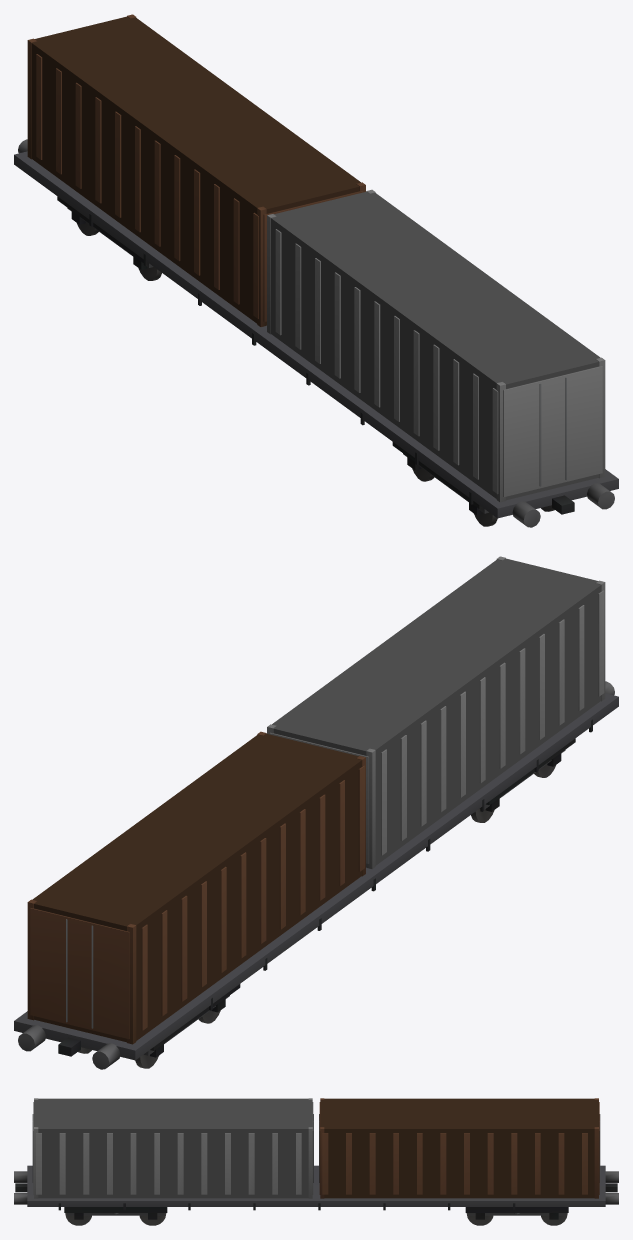
File: wagen_container2.glb
3 views of the same model, one above another, from view 1: azimuth 30°, elevation 25°; view 2: azimuth 150°, elevation 25°; view 3: azimuth 270°, elevation 25° (orthographic). The views are drawn at different scales.
Visible parts, largest first — view 1: lack; view 2: lack; view 3: lack.
Boxes of the visible parts, <box> form: lack: <box>14,14,618,527</box>; lack: <box>14,556,618,1069</box>; lack: <box>14,1098,618,1225</box>.
Size of the model in its own units: 2.85 by 3.83 by 20.5.
